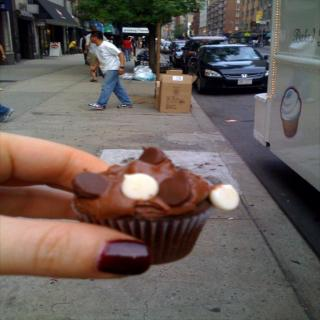Muffin: (67, 146, 236, 264)
